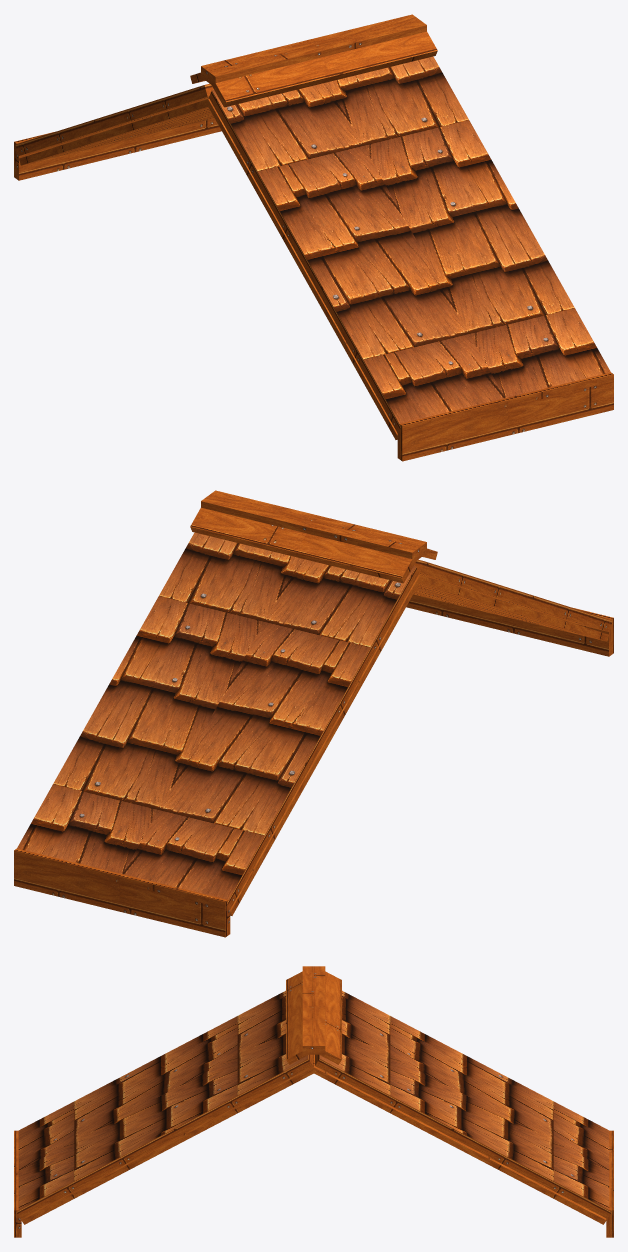
File: Roof3_Section_1m_NoEave.fbx
3 renders of one model, top to bottom at view 1: azimuth 30°, elevation 25°; view 2: azimuth 150°, elevation 25°; view 3: azimuth 270°, elevation 25°, orthographic. The views are drawn at different scales.
Visible parts, largest first — view 1: Roof3_Section_1m_NoEave; view 2: Roof3_Section_1m_NoEave; view 3: Roof3_Section_1m_NoEave.
Boxes of the visible parts, box(x1,y1,x2,y2) form: Roof3_Section_1m_NoEave: box(14, 14, 613, 461); Roof3_Section_1m_NoEave: box(14, 490, 613, 937); Roof3_Section_1m_NoEave: box(14, 966, 613, 1237).
Bounding box in the file's own units: 1 × 1.12 × 3.18.
